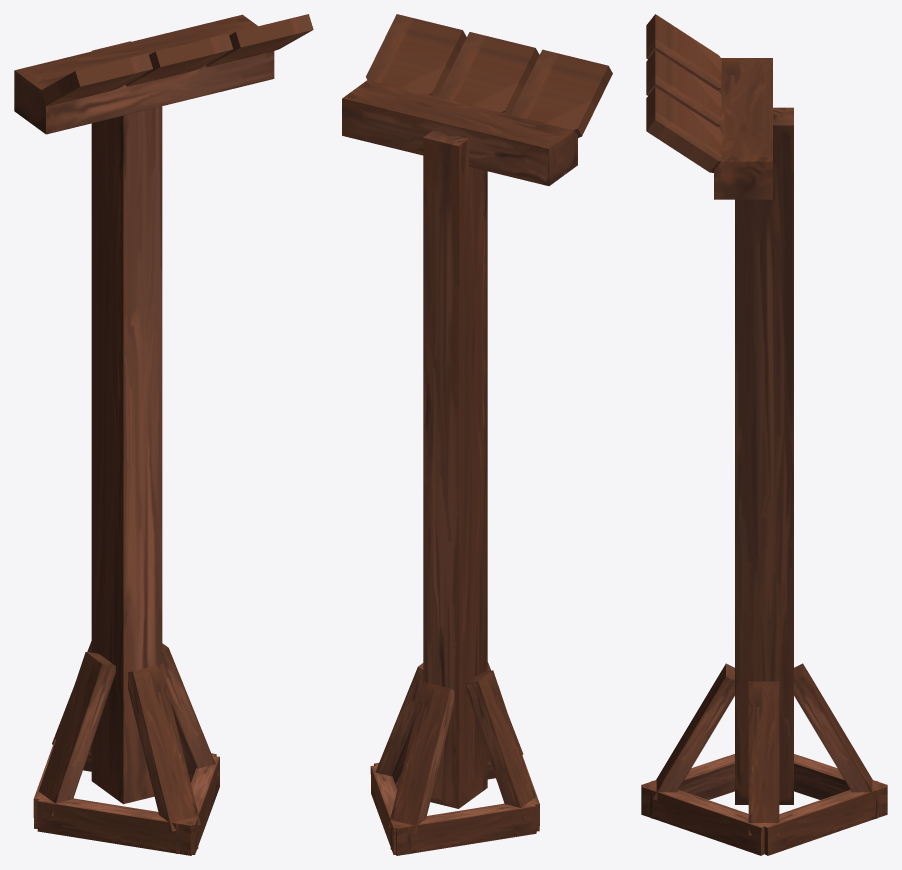
Rendered from cai den.fbx.
The picture shows the model from 3 angles, left to right: view 1: azimuth 30°, elevation 25°; view 2: azimuth 150°, elevation 25°; view 3: azimuth 270°, elevation 25°; orthographic projection. The views are drawn at different scales.
Visible parts, largest first — view 1: Plane.012; view 2: Plane.012; view 3: Plane.012.
Part boxes in pixels (left/top/right/bottom): Plane.012: left=14, top=14, right=313, bottom=855; Plane.012: left=342, top=14, right=612, bottom=855; Plane.012: left=641, top=14, right=887, bottom=855.
Size of the model in its own units: 275 by 909 by 270.
